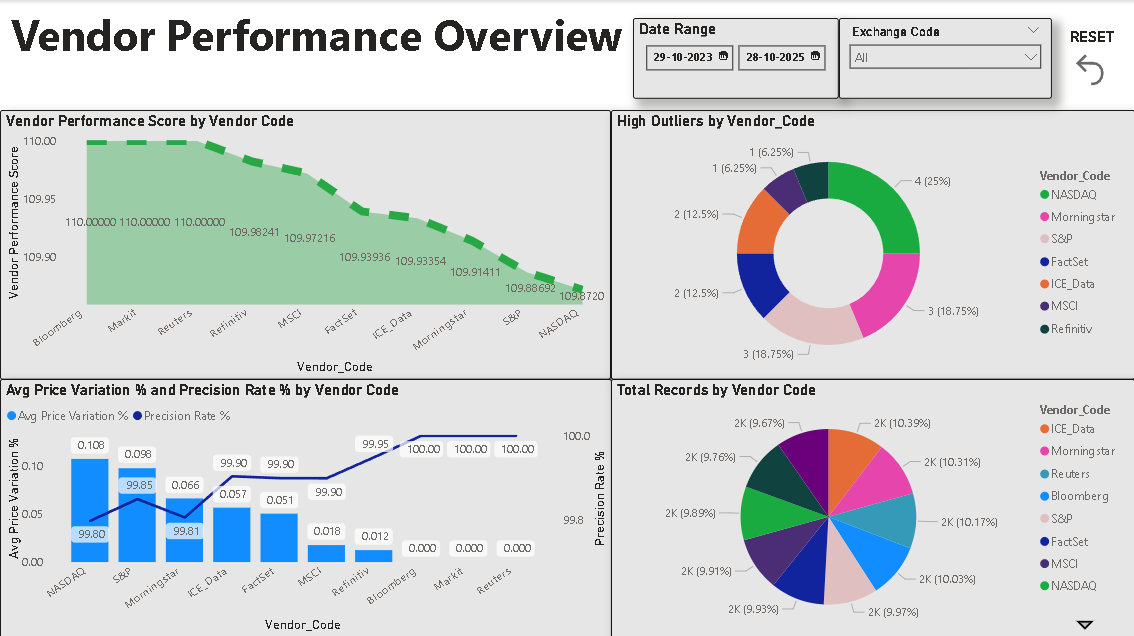

Layout of this report page (visuals, bound fields, positions):
{"tool":"powerbi","page":{"name":"Vendor Performance","canvas":[1280,720],"ordinal":2},"visuals":[{"type":"textbox","box":[0,0,713.9,111.6],"z":0},{"type":"stackedAreaChart","title":"Vendor Performance Score by Vendor Code","fields":{"Category":["Dim_Vendor.Vendor_Code"],"Y":["DAX Measures.Vendor Performance Score"]},"box":[0,123.5,688.6,304.4],"z":1000},{"type":"lineClusteredColumnComboChart","title":"Avg Price Variation % and Precision Rate % by Vendor Code","fields":{"Category":["Dim_Vendor.Vendor_Code"],"Y":["DAX Measures.Avg Price Variation %"],"Y2":["DAX Measures.Precision Rate %"]},"box":[0,428,689.6,292.8],"z":2000},{"type":"donutChart","fields":{"Category":["Dim_Vendor.Vendor_Code"],"Y":["DAX Measures.High Outliers"]},"box":[688.6,123.5,591.4,304.4],"z":3000},{"type":"pieChart","title":"Total Records by Vendor Code","fields":{"Category":["Dim_Vendor.Vendor_Code"],"Y":["DAX Measures.Total Records"]},"box":[688.6,428,591.4,291.8],"z":4000},{"type":"slicer","title":"Date Range","fields":{"Values":["Dim_Date.Date"]},"box":[713.9,20.3,232.3,91.3],"z":5000},{"type":"slicer","fields":{"Values":["Fact_Price_Details.Exchange_Code"]},"box":[946.2,20.3,240.2,91.3],"z":6000},{"type":"actionButton","title":"RESET","box":[1190.9,20.3,89.1,91.3],"z":6001}]}

Visuals, with their boxes in screenshot pixels (x1, y1, x2, y2), scaled from the page's 1280x720 canvas onto the 1134x636 screenshot:
textbox: Rect(0, 0, 632, 99)
"Vendor Performance Score by Vendor Code" stackedAreaChart: Rect(0, 109, 610, 378)
"Avg Price Variation % and Precision Rate % by Vendor Code" lineClusteredColumnComboChart: Rect(0, 378, 611, 635)
donutChart - Dim_Vendor.Vendor_Code x DAX Measures.High Outliers: Rect(610, 109, 1133, 378)
"Total Records by Vendor Code" pieChart: Rect(610, 378, 1133, 635)
"Date Range" slicer: Rect(632, 18, 838, 99)
slicer - Fact_Price_Details.Exchange_Code: Rect(838, 18, 1051, 99)
"RESET" actionButton: Rect(1055, 18, 1133, 99)
